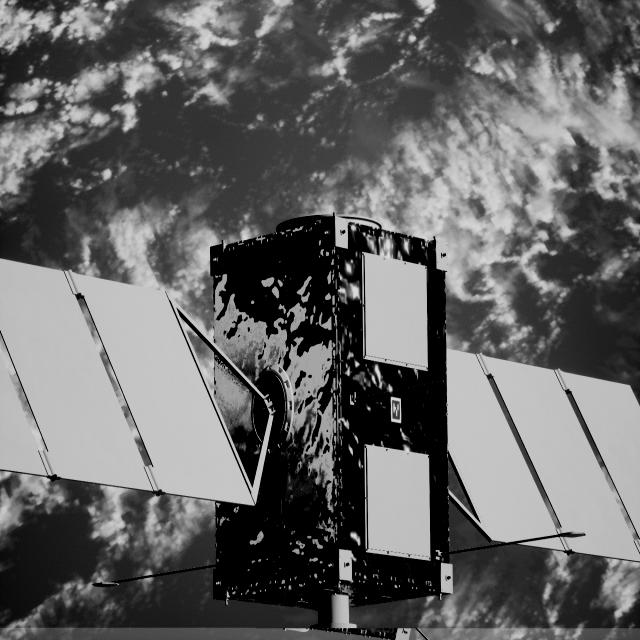satellite: (0, 215, 640, 609)
